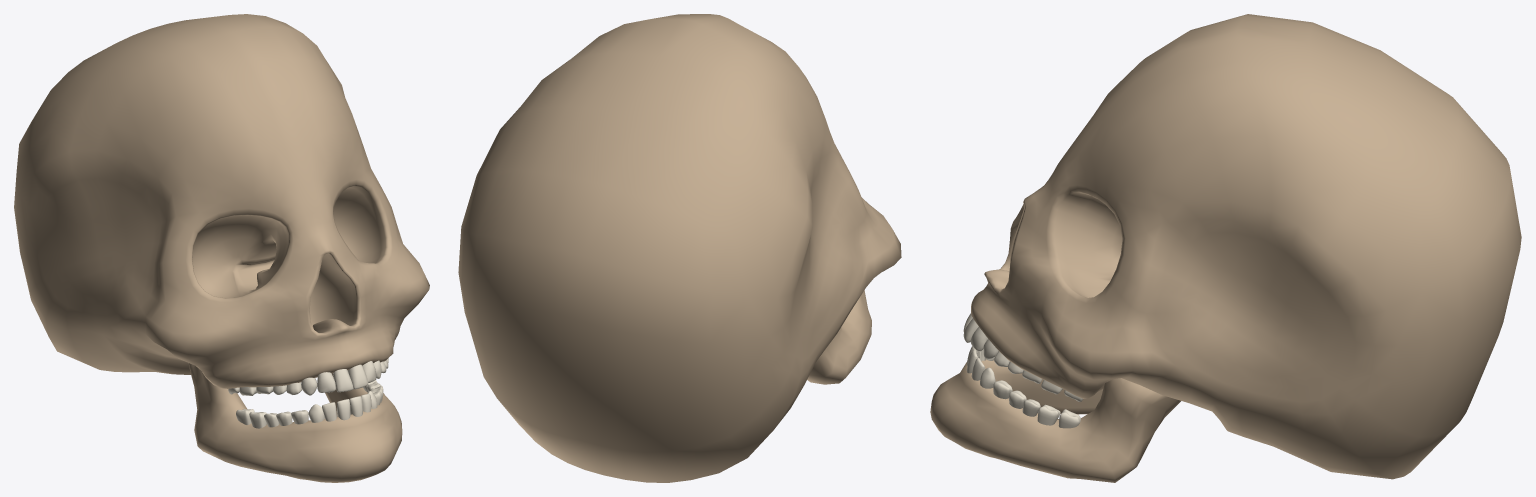
Rendered from skull.dae.
3 views of the same model, side by side, from view 1: azimuth 30°, elevation 25°; view 2: azimuth 150°, elevation 25°; view 3: azimuth 270°, elevation 25° (orthographic). The views are drawn at different scales.
Visible parts, largest first — view 1: Skull; view 2: Skull; view 3: Skull.
Boxes of the visible parts, left/top/right/bottom form: Skull: left=14, top=14, right=429, bottom=482; Skull: left=458, top=14, right=901, bottom=482; Skull: left=930, top=14, right=1521, bottom=482.
Bounding box in the file's own units: 0.2315 × 0.3516 × 0.2718.
